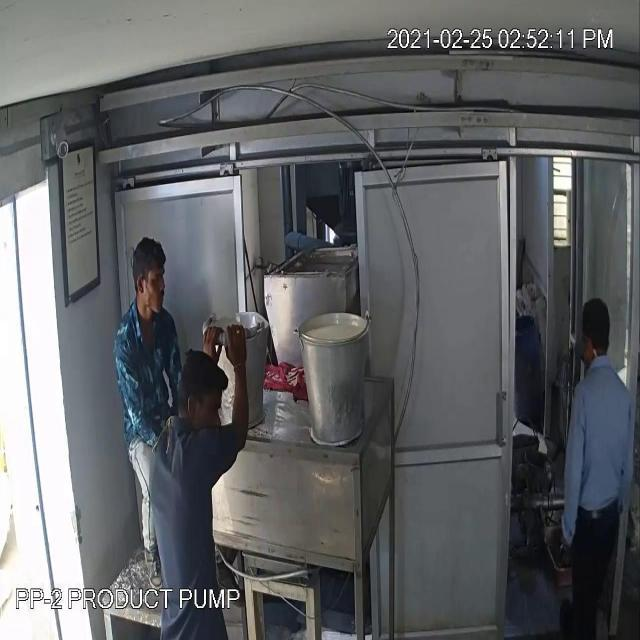no hat: (170, 342, 232, 414), (126, 227, 178, 297), (583, 293, 615, 344)
